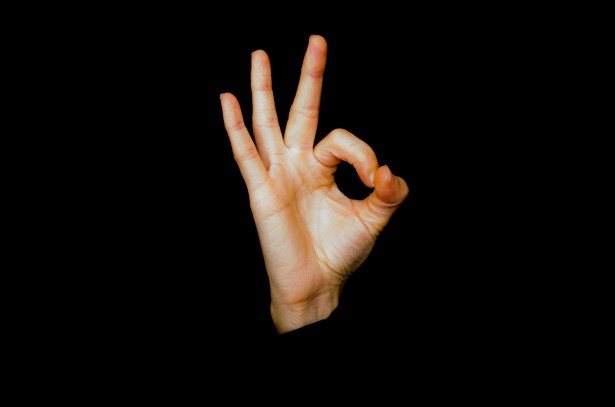oksign: (220, 36, 409, 288)
